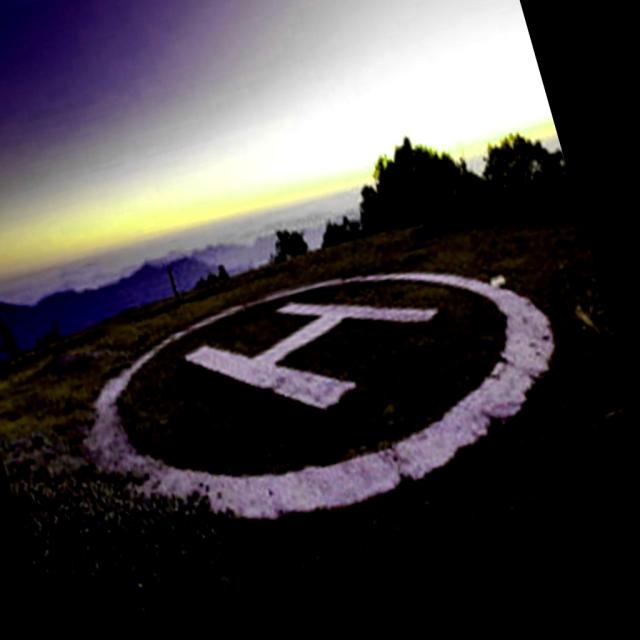helipad: (80, 261, 559, 525)
